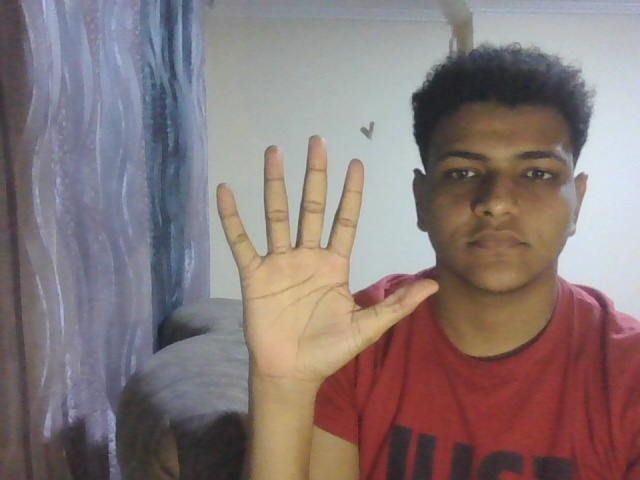Hello: (214, 127, 442, 372)
